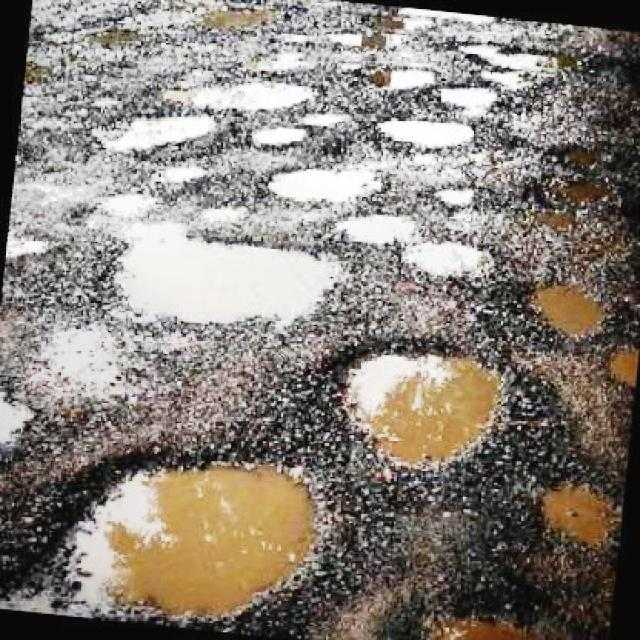pothole: (0, 428, 345, 634), (88, 192, 342, 328), (316, 337, 510, 471), (363, 571, 566, 640), (336, 206, 498, 288), (532, 272, 640, 391), (521, 157, 640, 240), (356, 62, 510, 118), (22, 25, 144, 89), (540, 464, 623, 550), (100, 106, 231, 157), (452, 34, 568, 86), (268, 160, 390, 206), (371, 109, 477, 160), (190, 74, 316, 115), (246, 108, 357, 149), (188, 0, 280, 37)
